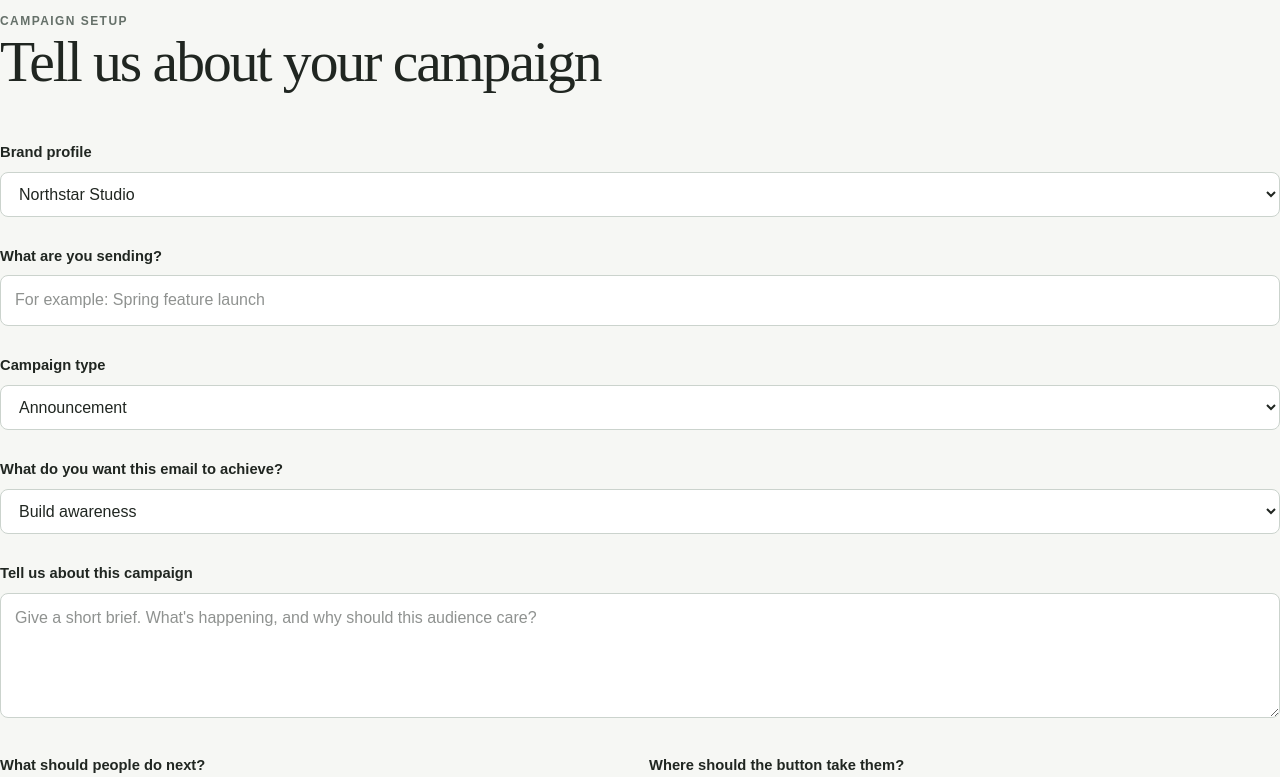
it: CampaignForm › hides conditional facts by default and reveals them for the selected type
Expected: the field labelled "Event date and time" is not shown
Select "Webinar" in the dropdown labelled "Campaign type" at (640, 408), box top-left (0, 385), bottom-right (1279, 430)
(page scrolled)
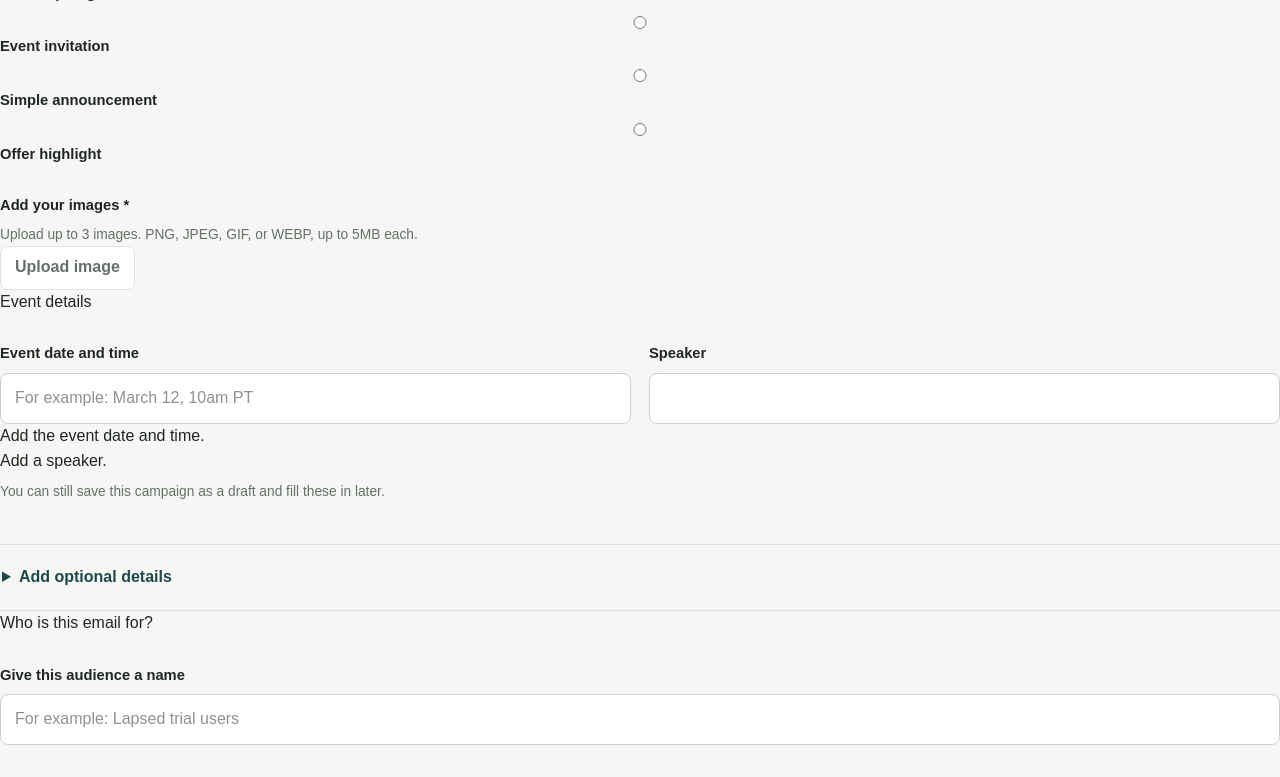
Now the field labelled "Event date and time" is shown, box top-left (0, 373), bottom-right (631, 424)
Now the field labelled "Speaker" is shown, box top-left (649, 373), bottom-right (1279, 424)
